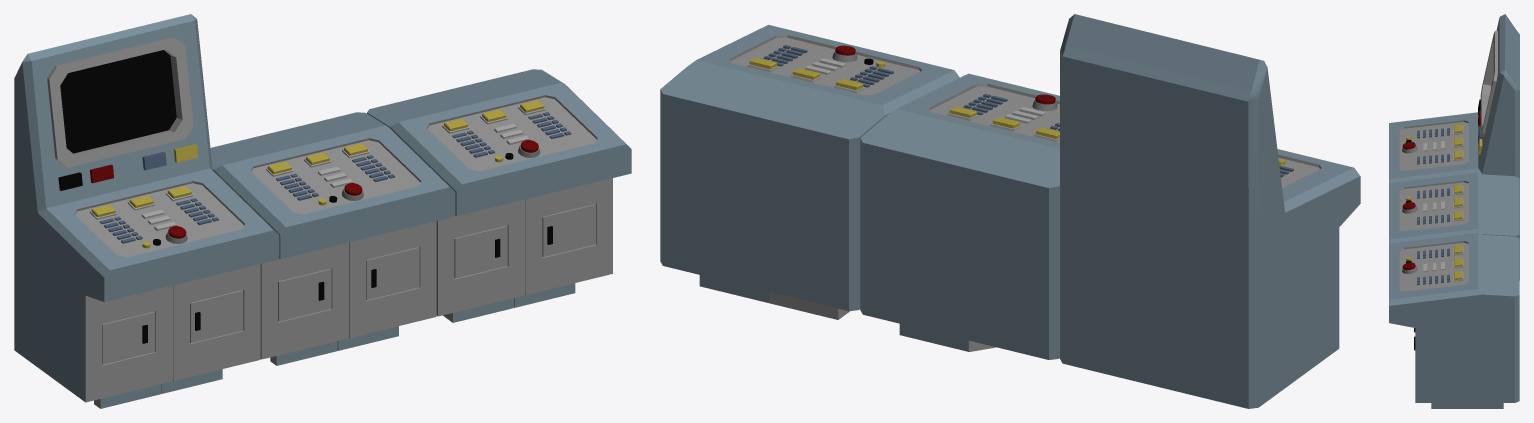
The model's file is Panneau commande.fbx.
3 renders of one model, left to right at view 1: azimuth 30°, elevation 25°; view 2: azimuth 150°, elevation 25°; view 3: azimuth 270°, elevation 25°, orthographic. The views are drawn at different scales.
Visible parts, largest first — view 1: pCube69; view 2: pCube69; view 3: pCube69.
Part boxes in pixels (left/top/right/bottom): pCube69: left=14, top=14, right=631, bottom=408; pCube69: left=660, top=14, right=1360, bottom=408; pCube69: left=1389, top=14, right=1519, bottom=408.
Bounding box in the file's own units: 3.58 × 2.09 × 1.1.
